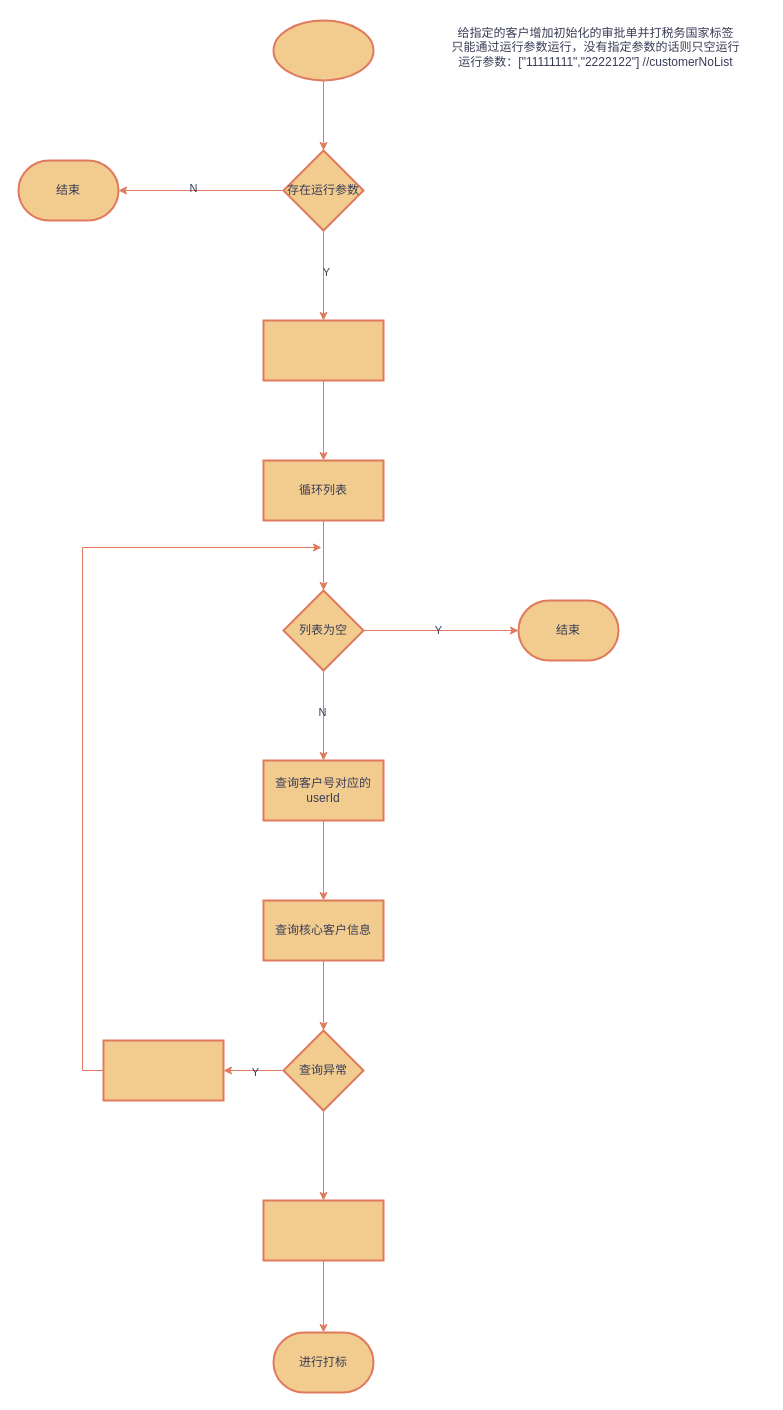
Image size: 783x1410. Some labels were removed from this diagram. The shapes that lost their labels are listed below. From the top down, each one's centre as x and y in pixels, then its label:
At point 323,50: "给指定客户打标签".
At point 323,350: "解析参数为customerNoList".
At point 163,1070: "告警".
At point 323,1230: "获取打标税务国家".
